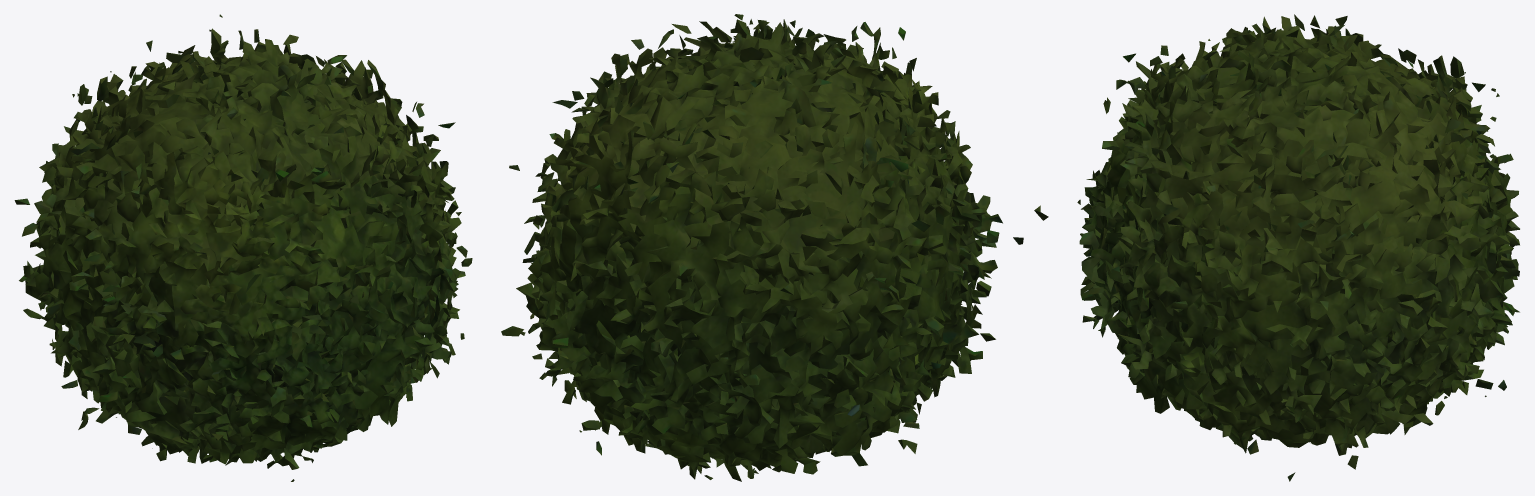
File: bush-dense-hunyuan.glb
3 renders of one model, left to right at view 1: azimuth 30°, elevation 25°; view 2: azimuth 150°, elevation 25°; view 3: azimuth 270°, elevation 25°, orthographic. The views are drawn at different scales.
Parts seen in each view (by area): view 1: tmpsz8i49kw.ply; view 2: tmpsz8i49kw.ply; view 3: tmpsz8i49kw.ply.
Part boxes in pixels (x1,y1,x2,y2): tmpsz8i49kw.ply: (14, 14, 472, 481); tmpsz8i49kw.ply: (501, 14, 1048, 481); tmpsz8i49kw.ply: (1077, 14, 1519, 481).
Bounding box in the file's own units: 0.9848 × 0.9501 × 0.9936.
Materials: 1 (1 with a texture image).
